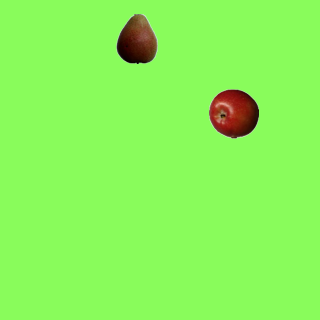Apple Braeburn: (208, 88, 258, 138)
Pear Forelle: (111, 13, 161, 63)
